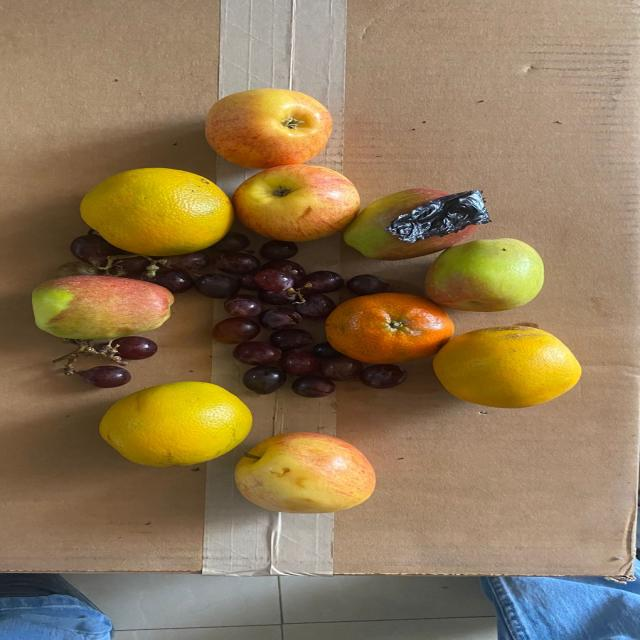bolsa_negra: (391, 192, 483, 248)
